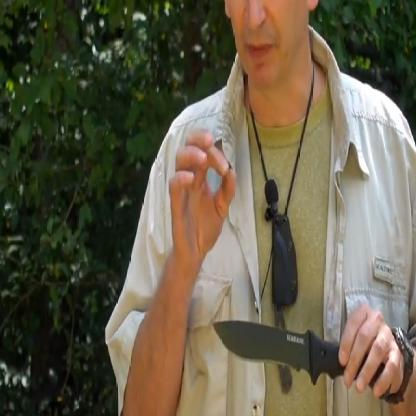knife: (208, 297, 394, 403)
